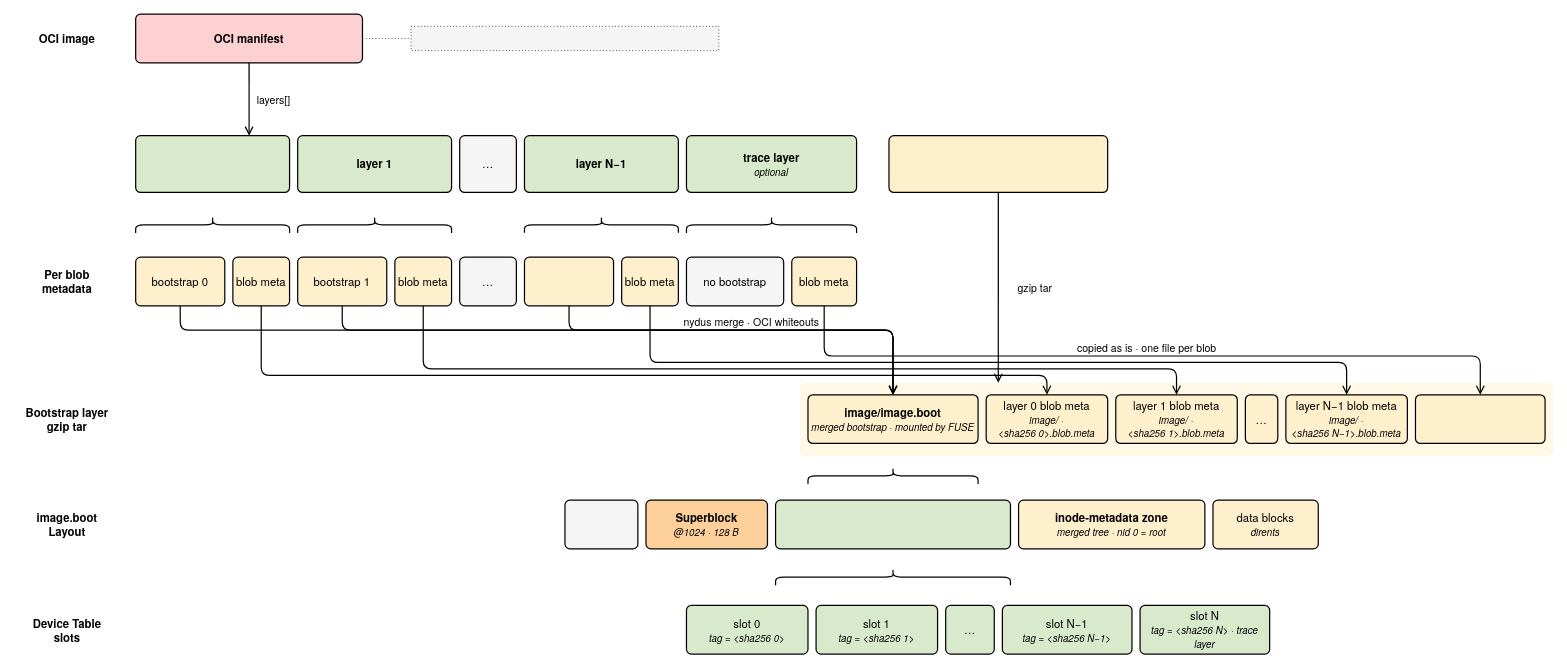
Some shapes in this 1567 by 669 pixel diagram are drawn without their labels. Here are the shapes that lost their labels. From the top down, the centre of each, then its label:
At point 564,38: "nydusify convert --source <oci> --target <nydus>".
At point 212,164: "layer 0".
At point 998,164: "bootstrap layer".
At point 569,281: "bootstrap N−1".
At point 1480,419: "trace layer blob meta image/ · <sha256 N>.blob.meta".
At point 601,524: "unused 1 KiB".
At point 893,524: "Device Table @1152 · 128 B slots · one per blob".
